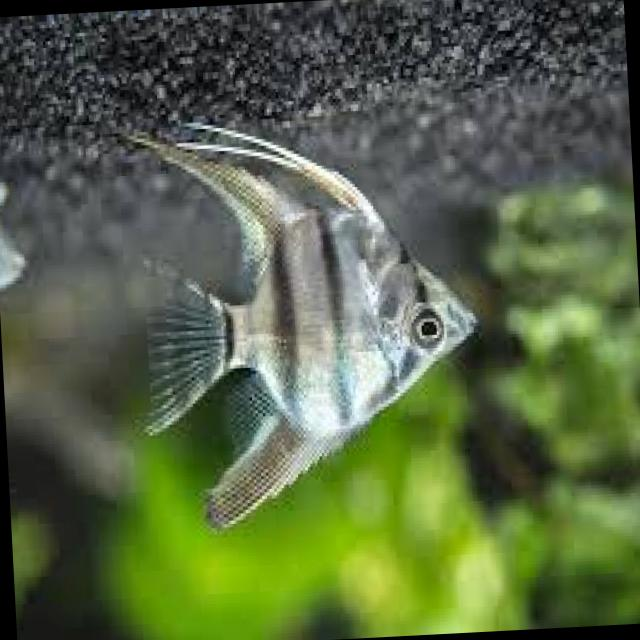AngelFish: (128, 107, 484, 532)
